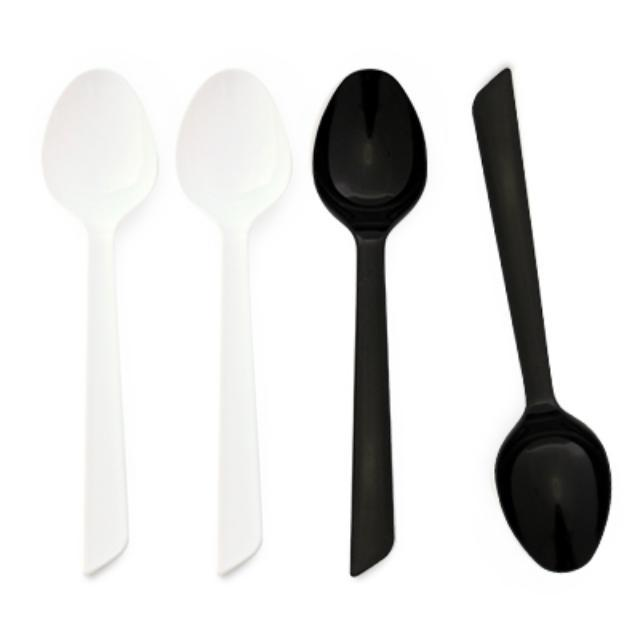Plastico descartable: (472, 69, 610, 572), (42, 70, 158, 573), (176, 70, 291, 574), (314, 70, 426, 574)
